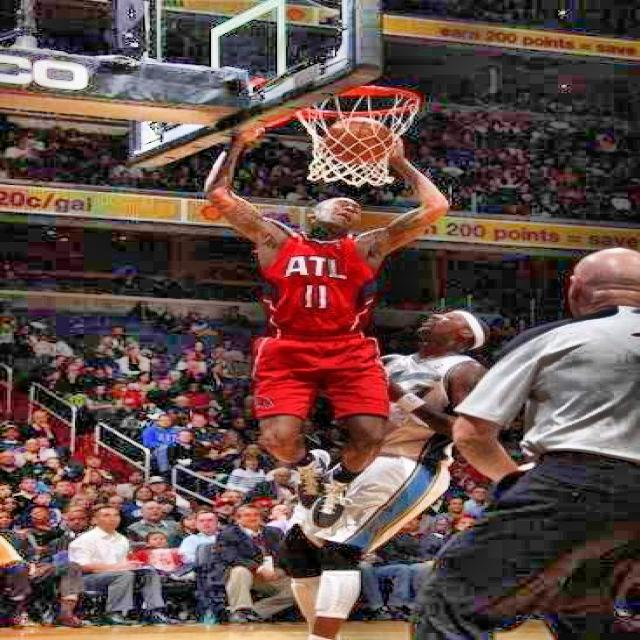rim: (302, 86, 418, 186)
